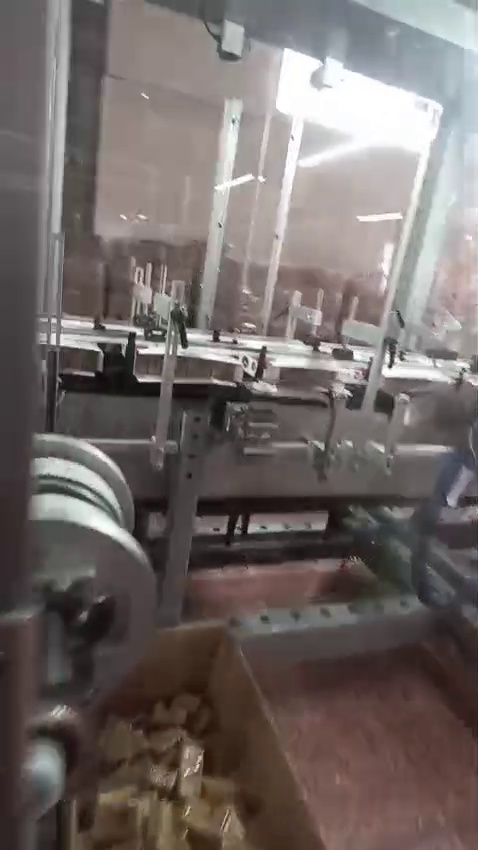savon: (63, 614, 312, 850), (320, 568, 378, 604), (82, 290, 106, 320), (465, 625, 478, 639)
